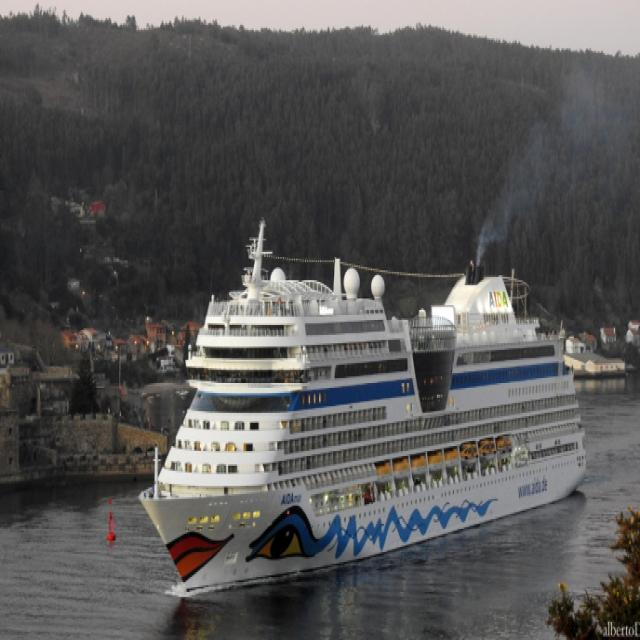cruises: (141, 210, 607, 599)
